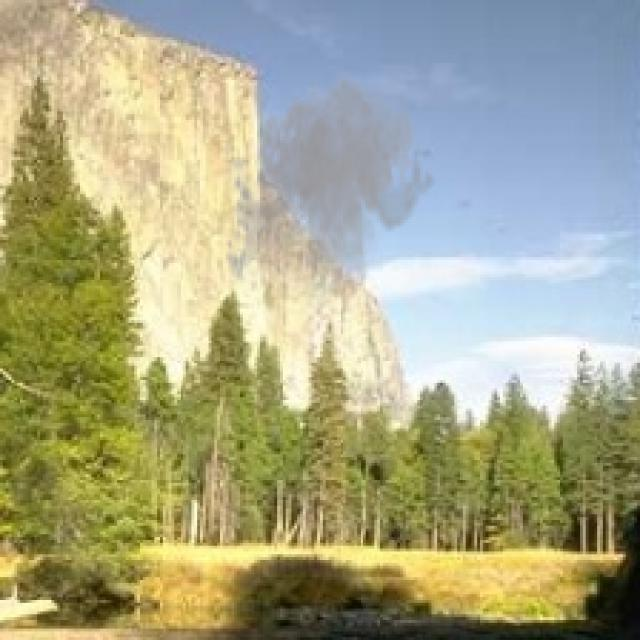Smoke: (220, 65, 437, 318)
